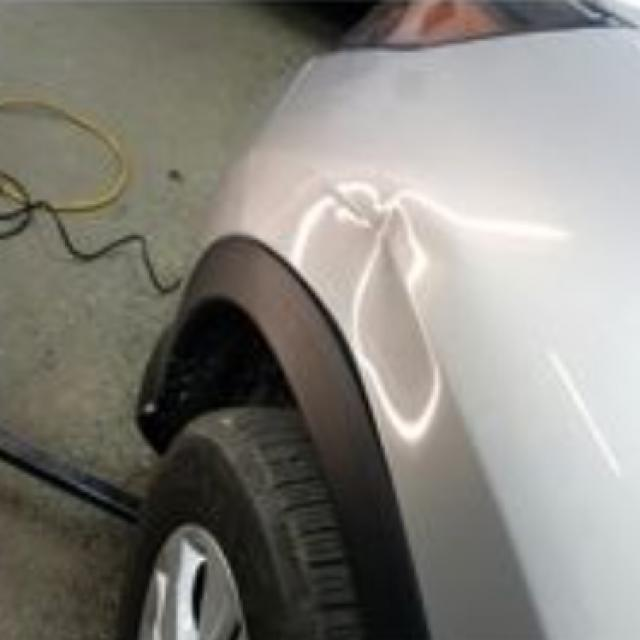dents: (292, 171, 492, 438)
